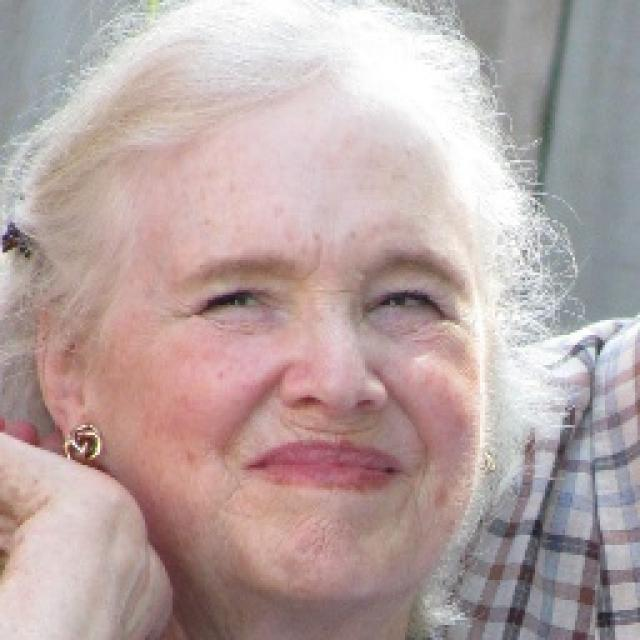earlobe: (34, 284, 100, 460)
